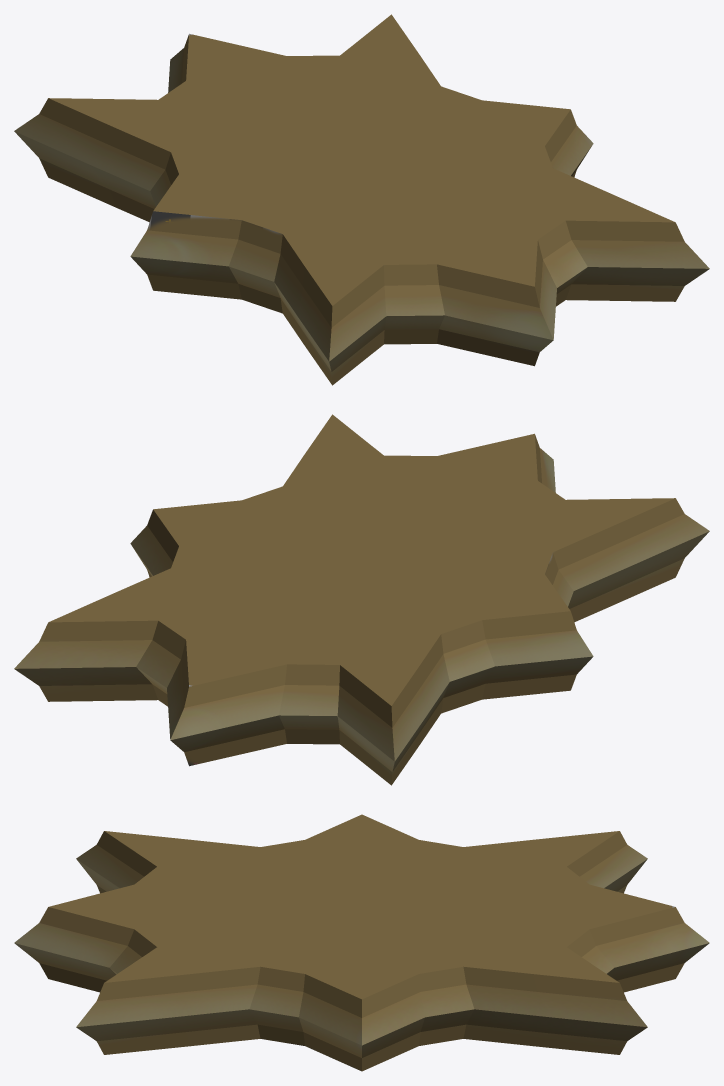
The model's file is BigSlab.glb.
3 views of the same model, one above another, from view 1: azimuth 30°, elevation 25°; view 2: azimuth 150°, elevation 25°; view 3: azimuth 270°, elevation 25° (orthographic). The views are drawn at different scales.
Visible parts, largest first — view 1: BigSlab; view 2: BigSlab; view 3: BigSlab.
Boxes of the visible parts, <box> form: BigSlab: <box>14,14,709,385</box>; BigSlab: <box>14,414,709,785</box>; BigSlab: <box>14,814,709,1071</box>.
Size of the model in its own units: 6.55 by 1.07 by 9.39.
Materials: 1 (1 with a texture image).
